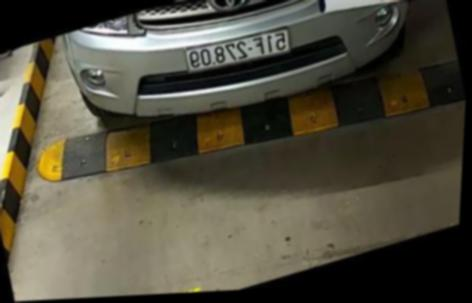License_Plate: (177, 24, 294, 80)
